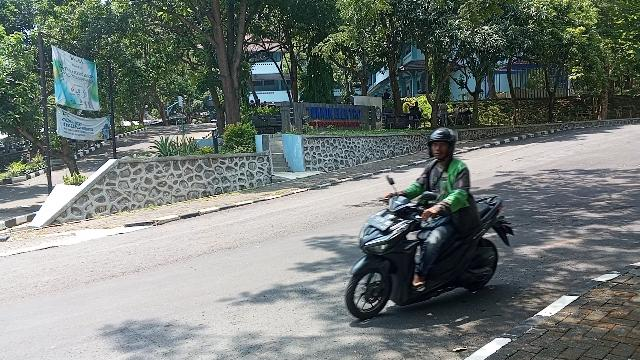helm: (427, 128, 459, 163)
motor: (345, 175, 518, 323)
